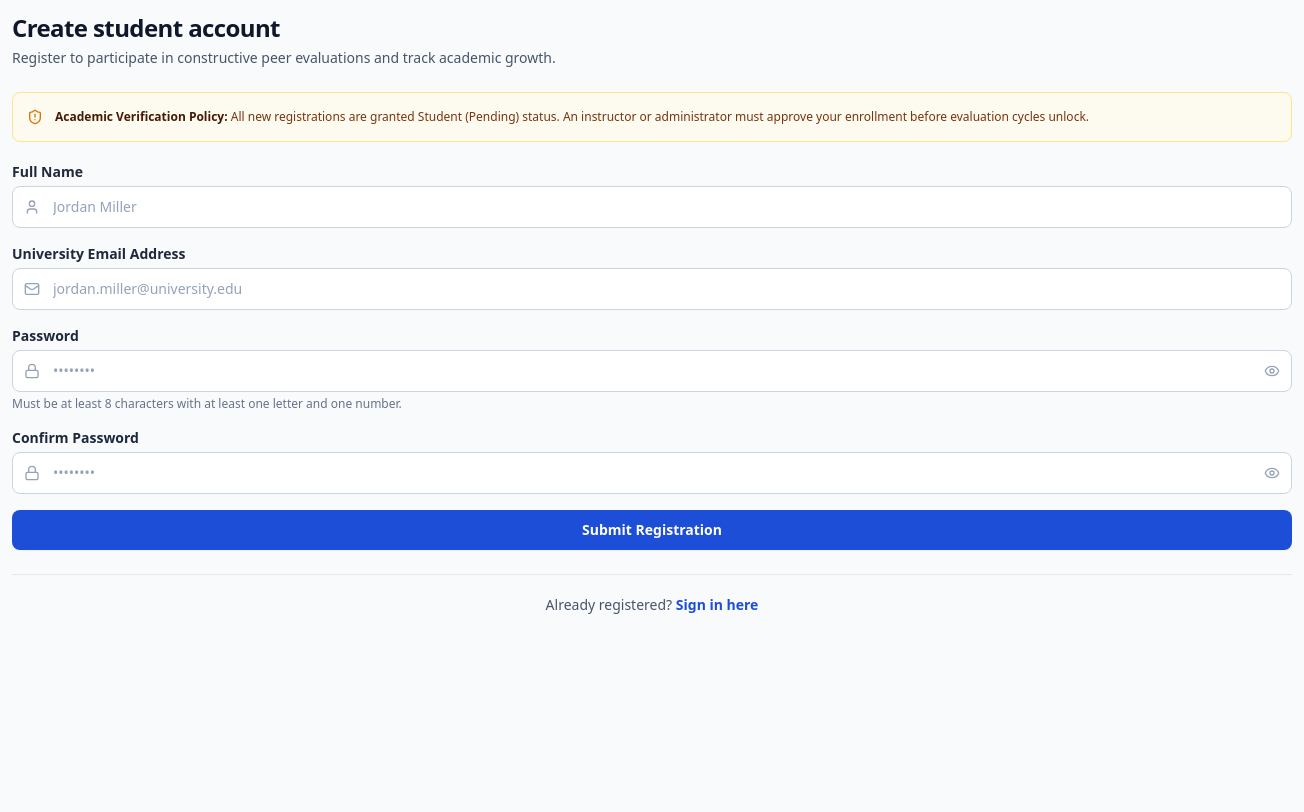
Frontend Authentication & Membership Views (Stage 3) › 2. RegisterForm Component › displays duplicate email conflict message from API response
This screenshot has width=1304, height=812.
Type "Sarah Connor" into the field labelled "Full Name" at (652, 206), box [12,186,1292,228]
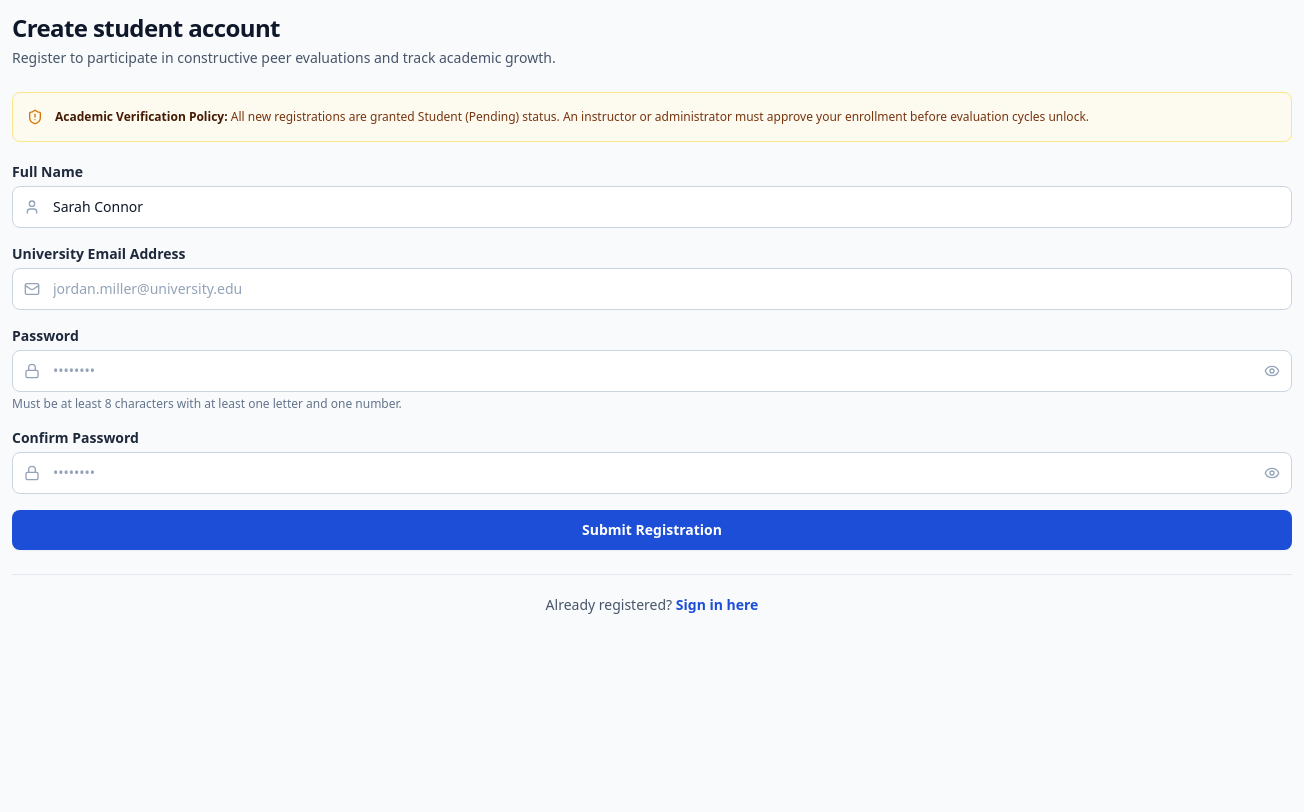
Type "existing@university.edu" into the field labelled "University Email Address" at (652, 288), box [12,268,1292,310]
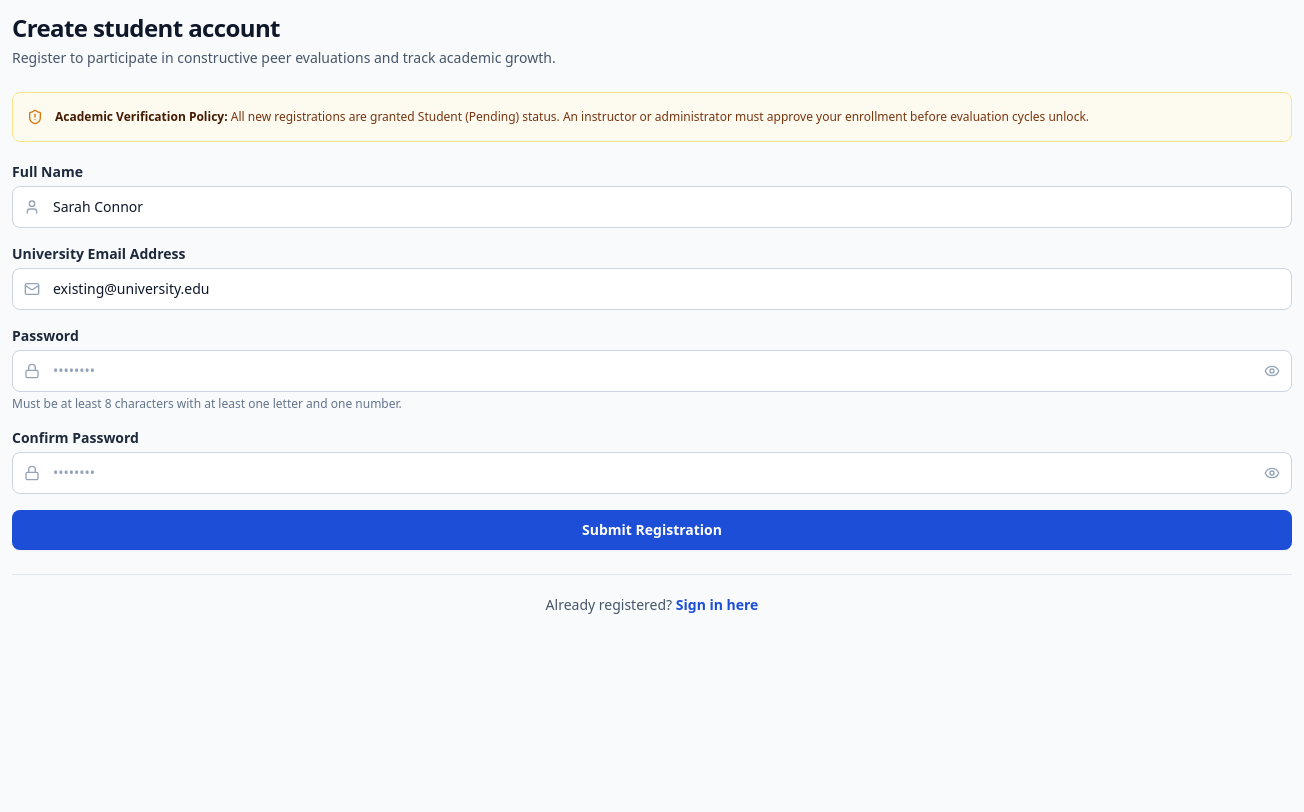
Type "ValidPassword123!" into the password field labelled "Password" at (652, 370), box [12,350,1292,392]
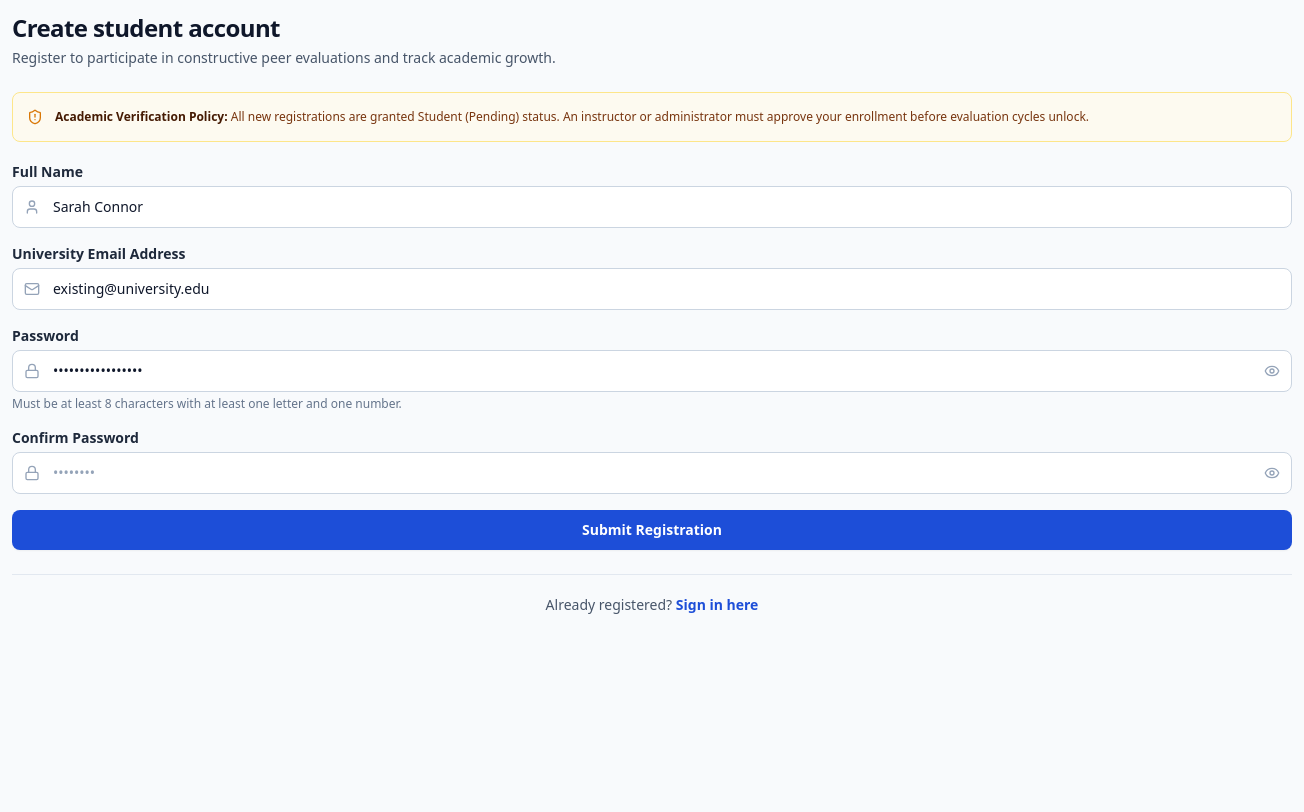
Type "ValidPassword123!" into the password field labelled "Confirm Password" at (652, 472), box [12,452,1292,494]
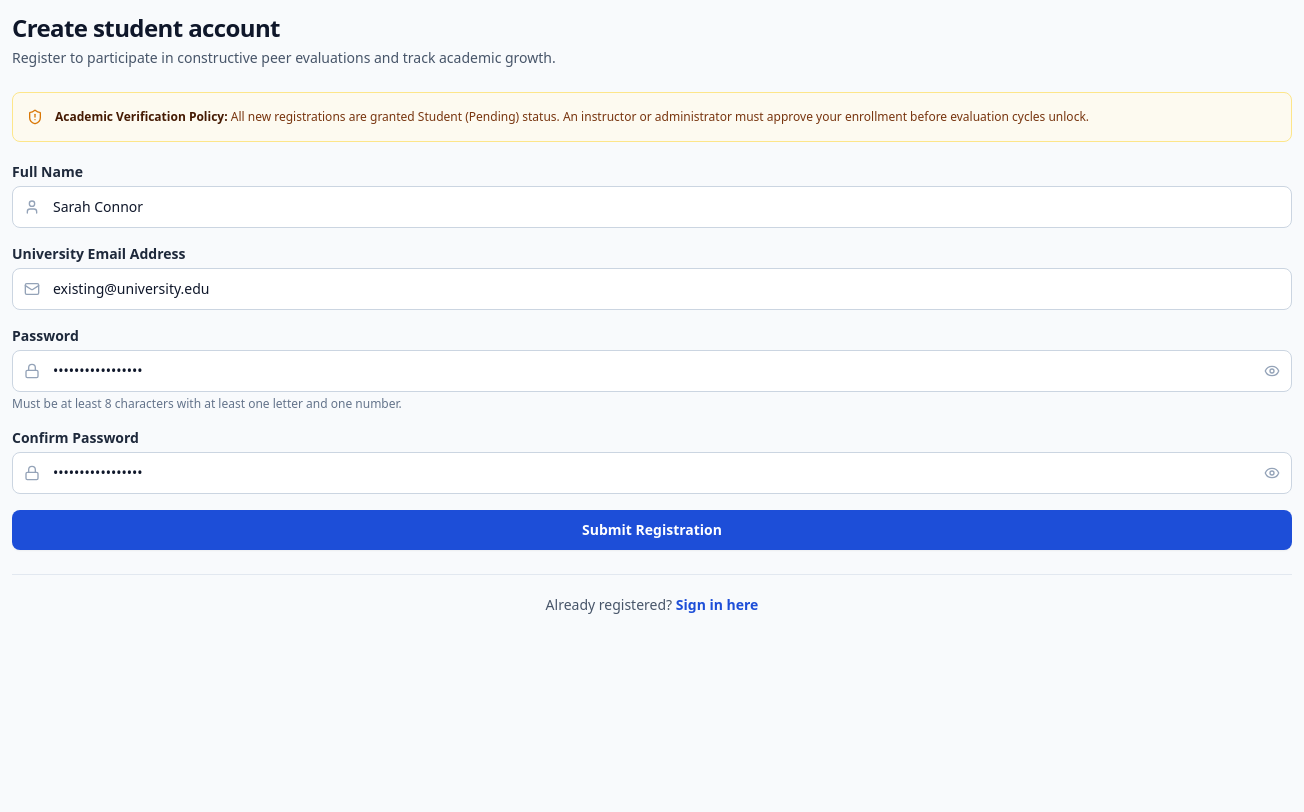
Click the button "Submit Registration" at (652, 530), box [12,510,1292,550]
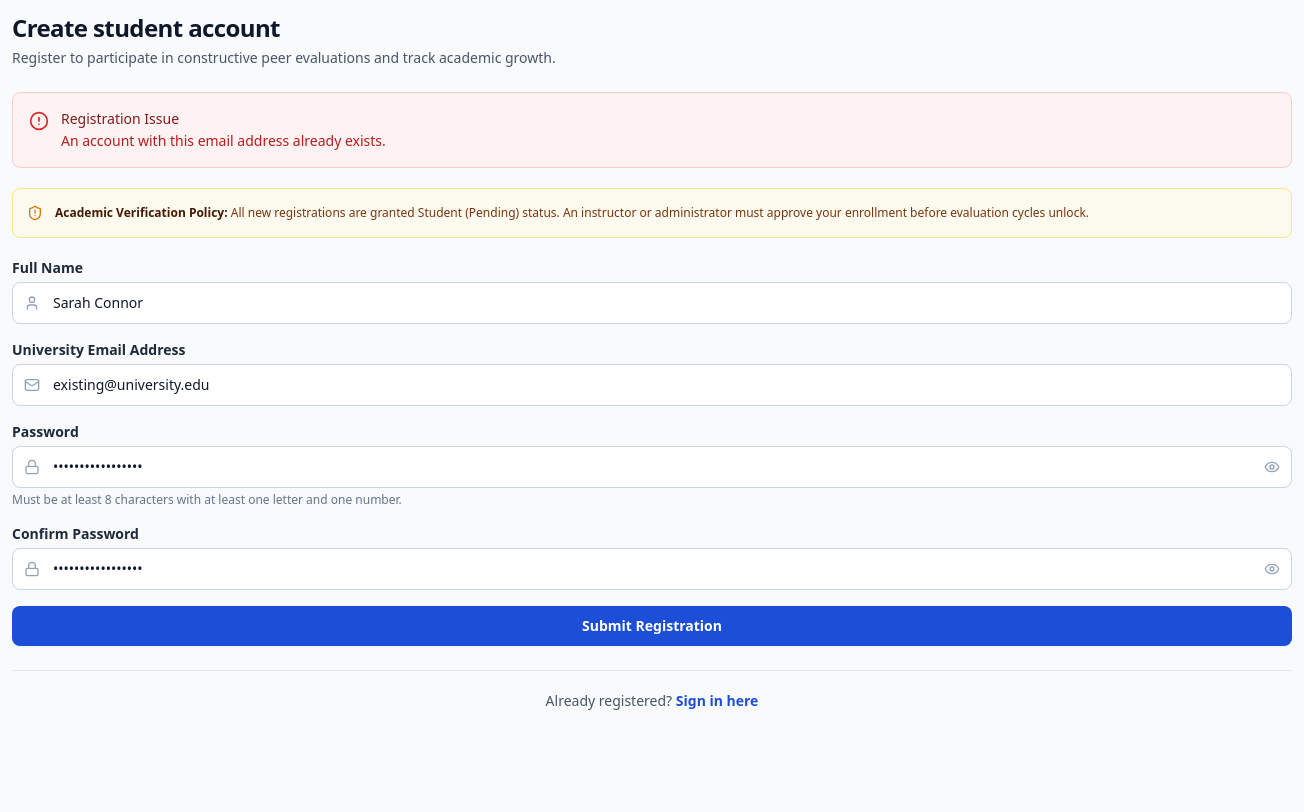
Expected: the message "Registration Issue An account with this email address already exists." is shown, [12,92,1292,168]
Expected: the text "An account with this email address already exists." is shown, [61,131,386,150]
